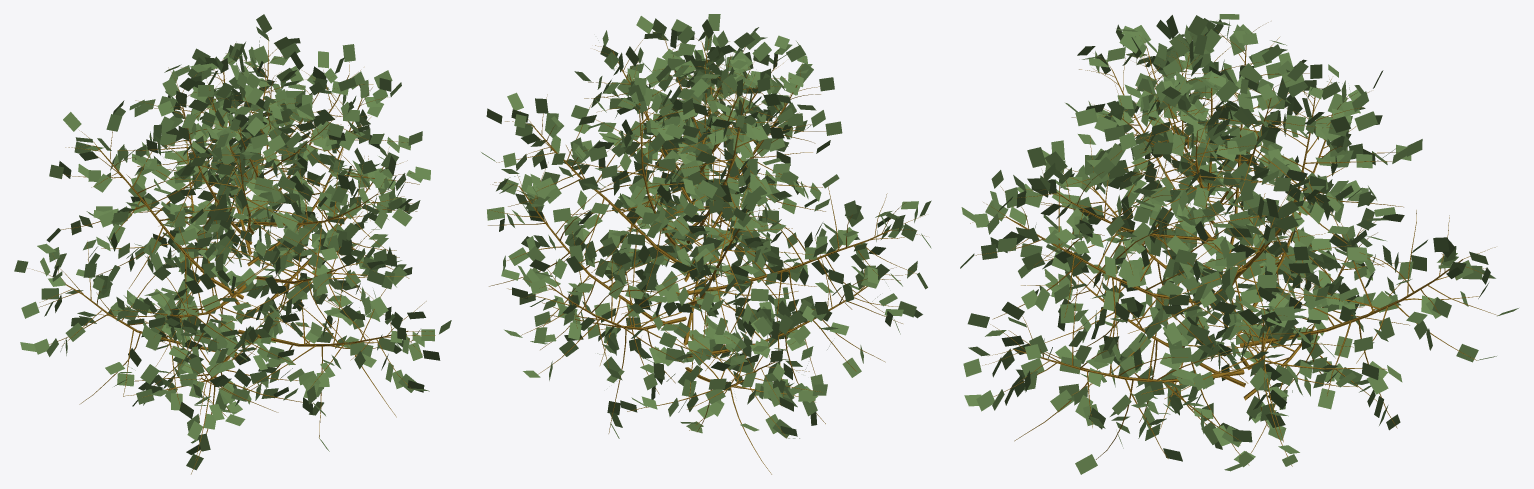
File: bushTest.glb
The picture shows the model from 3 angles, left to right: view 1: azimuth 30°, elevation 25°; view 2: azimuth 150°, elevation 25°; view 3: azimuth 270°, elevation 25°; orthographic projection. The views are drawn at different scales.
Parts seen in each view (by area): view 1: Foliage001, branches; view 2: Foliage001, branches; view 3: Foliage001, branches.
Boxes of the visible parts, x1,y1,x2,y2 form: Foliage001: (14, 14, 451, 470); branches: (27, 37, 435, 474); Foliage001: (481, 14, 931, 438); branches: (488, 34, 926, 474); Foliage001: (960, 14, 1518, 474); branches: (970, 22, 1497, 466).
Size of the model in its own units: 1.61 by 1.68 by 1.88.
